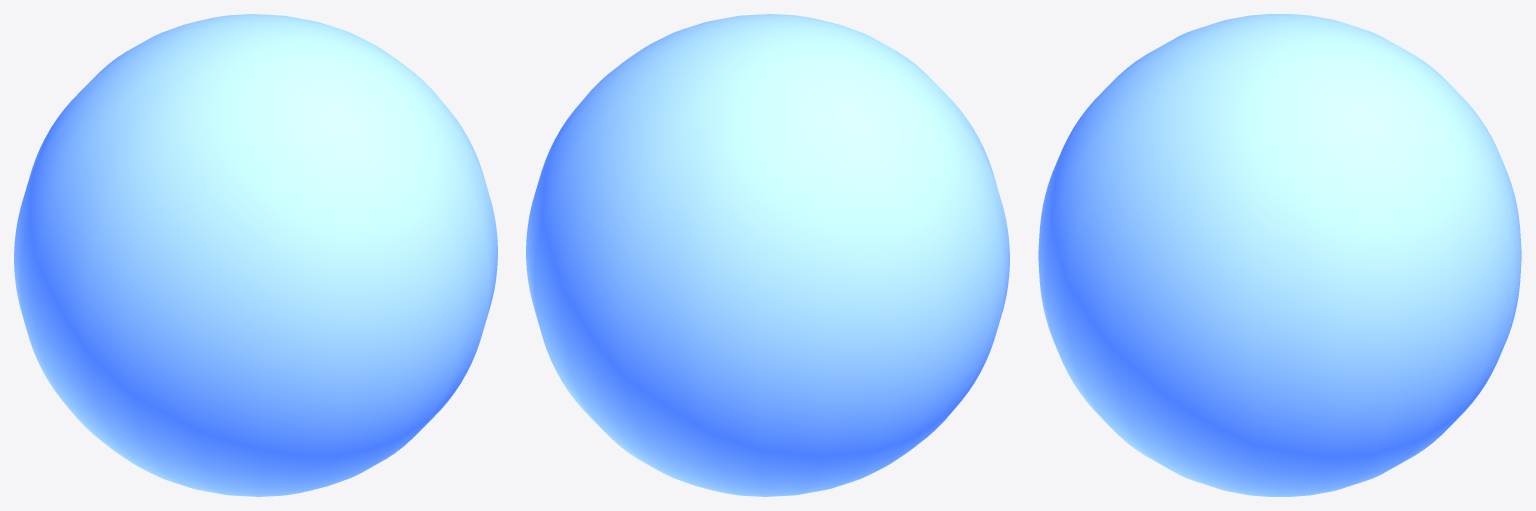
Rendered from neon_sphere.glb.
The picture shows the model from 3 angles, left to right: view 1: azimuth 30°, elevation 25°; view 2: azimuth 150°, elevation 25°; view 3: azimuth 270°, elevation 25°; orthographic projection.
Visible parts, largest first — view 1: SurfSphere; view 2: SurfSphere; view 3: SurfSphere.
Part boxes in pixels (x1,y1,x2,y2): SurfSphere: (14, 14, 497, 496); SurfSphere: (526, 14, 1009, 496); SurfSphere: (1038, 14, 1521, 496).
Bounding box in the file's own units: 2 × 2 × 2.
